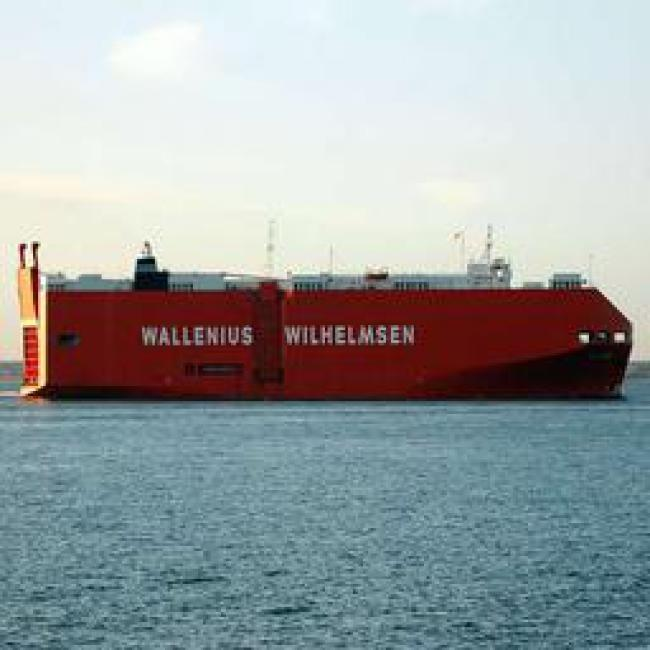Ship: (3, 234, 635, 412)
